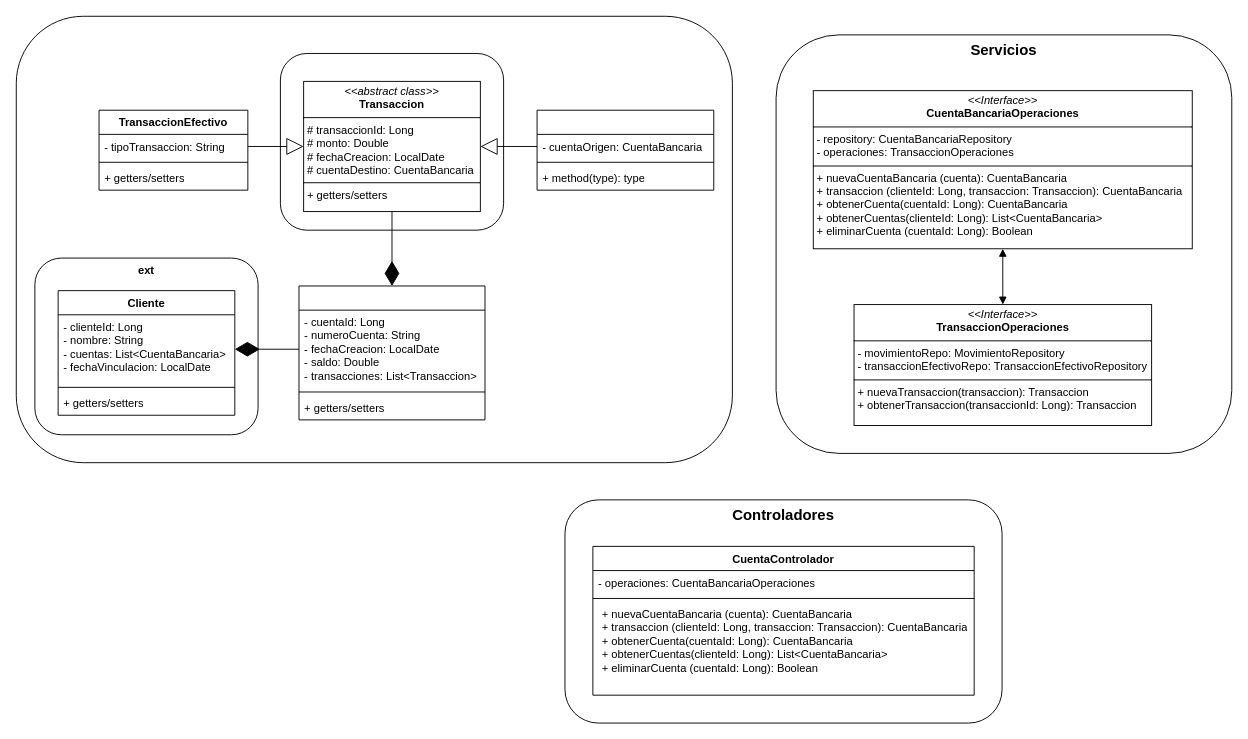
The diagram is 1248 pixels wide and 739 high, and some of its shapes have lost their labels. The box of each missing label's shape, as (x1, y1, x2, y2) in pixels:
contratos: (279, 53, 504, 230)
CuentaBancaria: (298, 285, 485, 420)
Modelos: (15, 15, 732, 463)
Movimiento: (536, 109, 714, 190)
